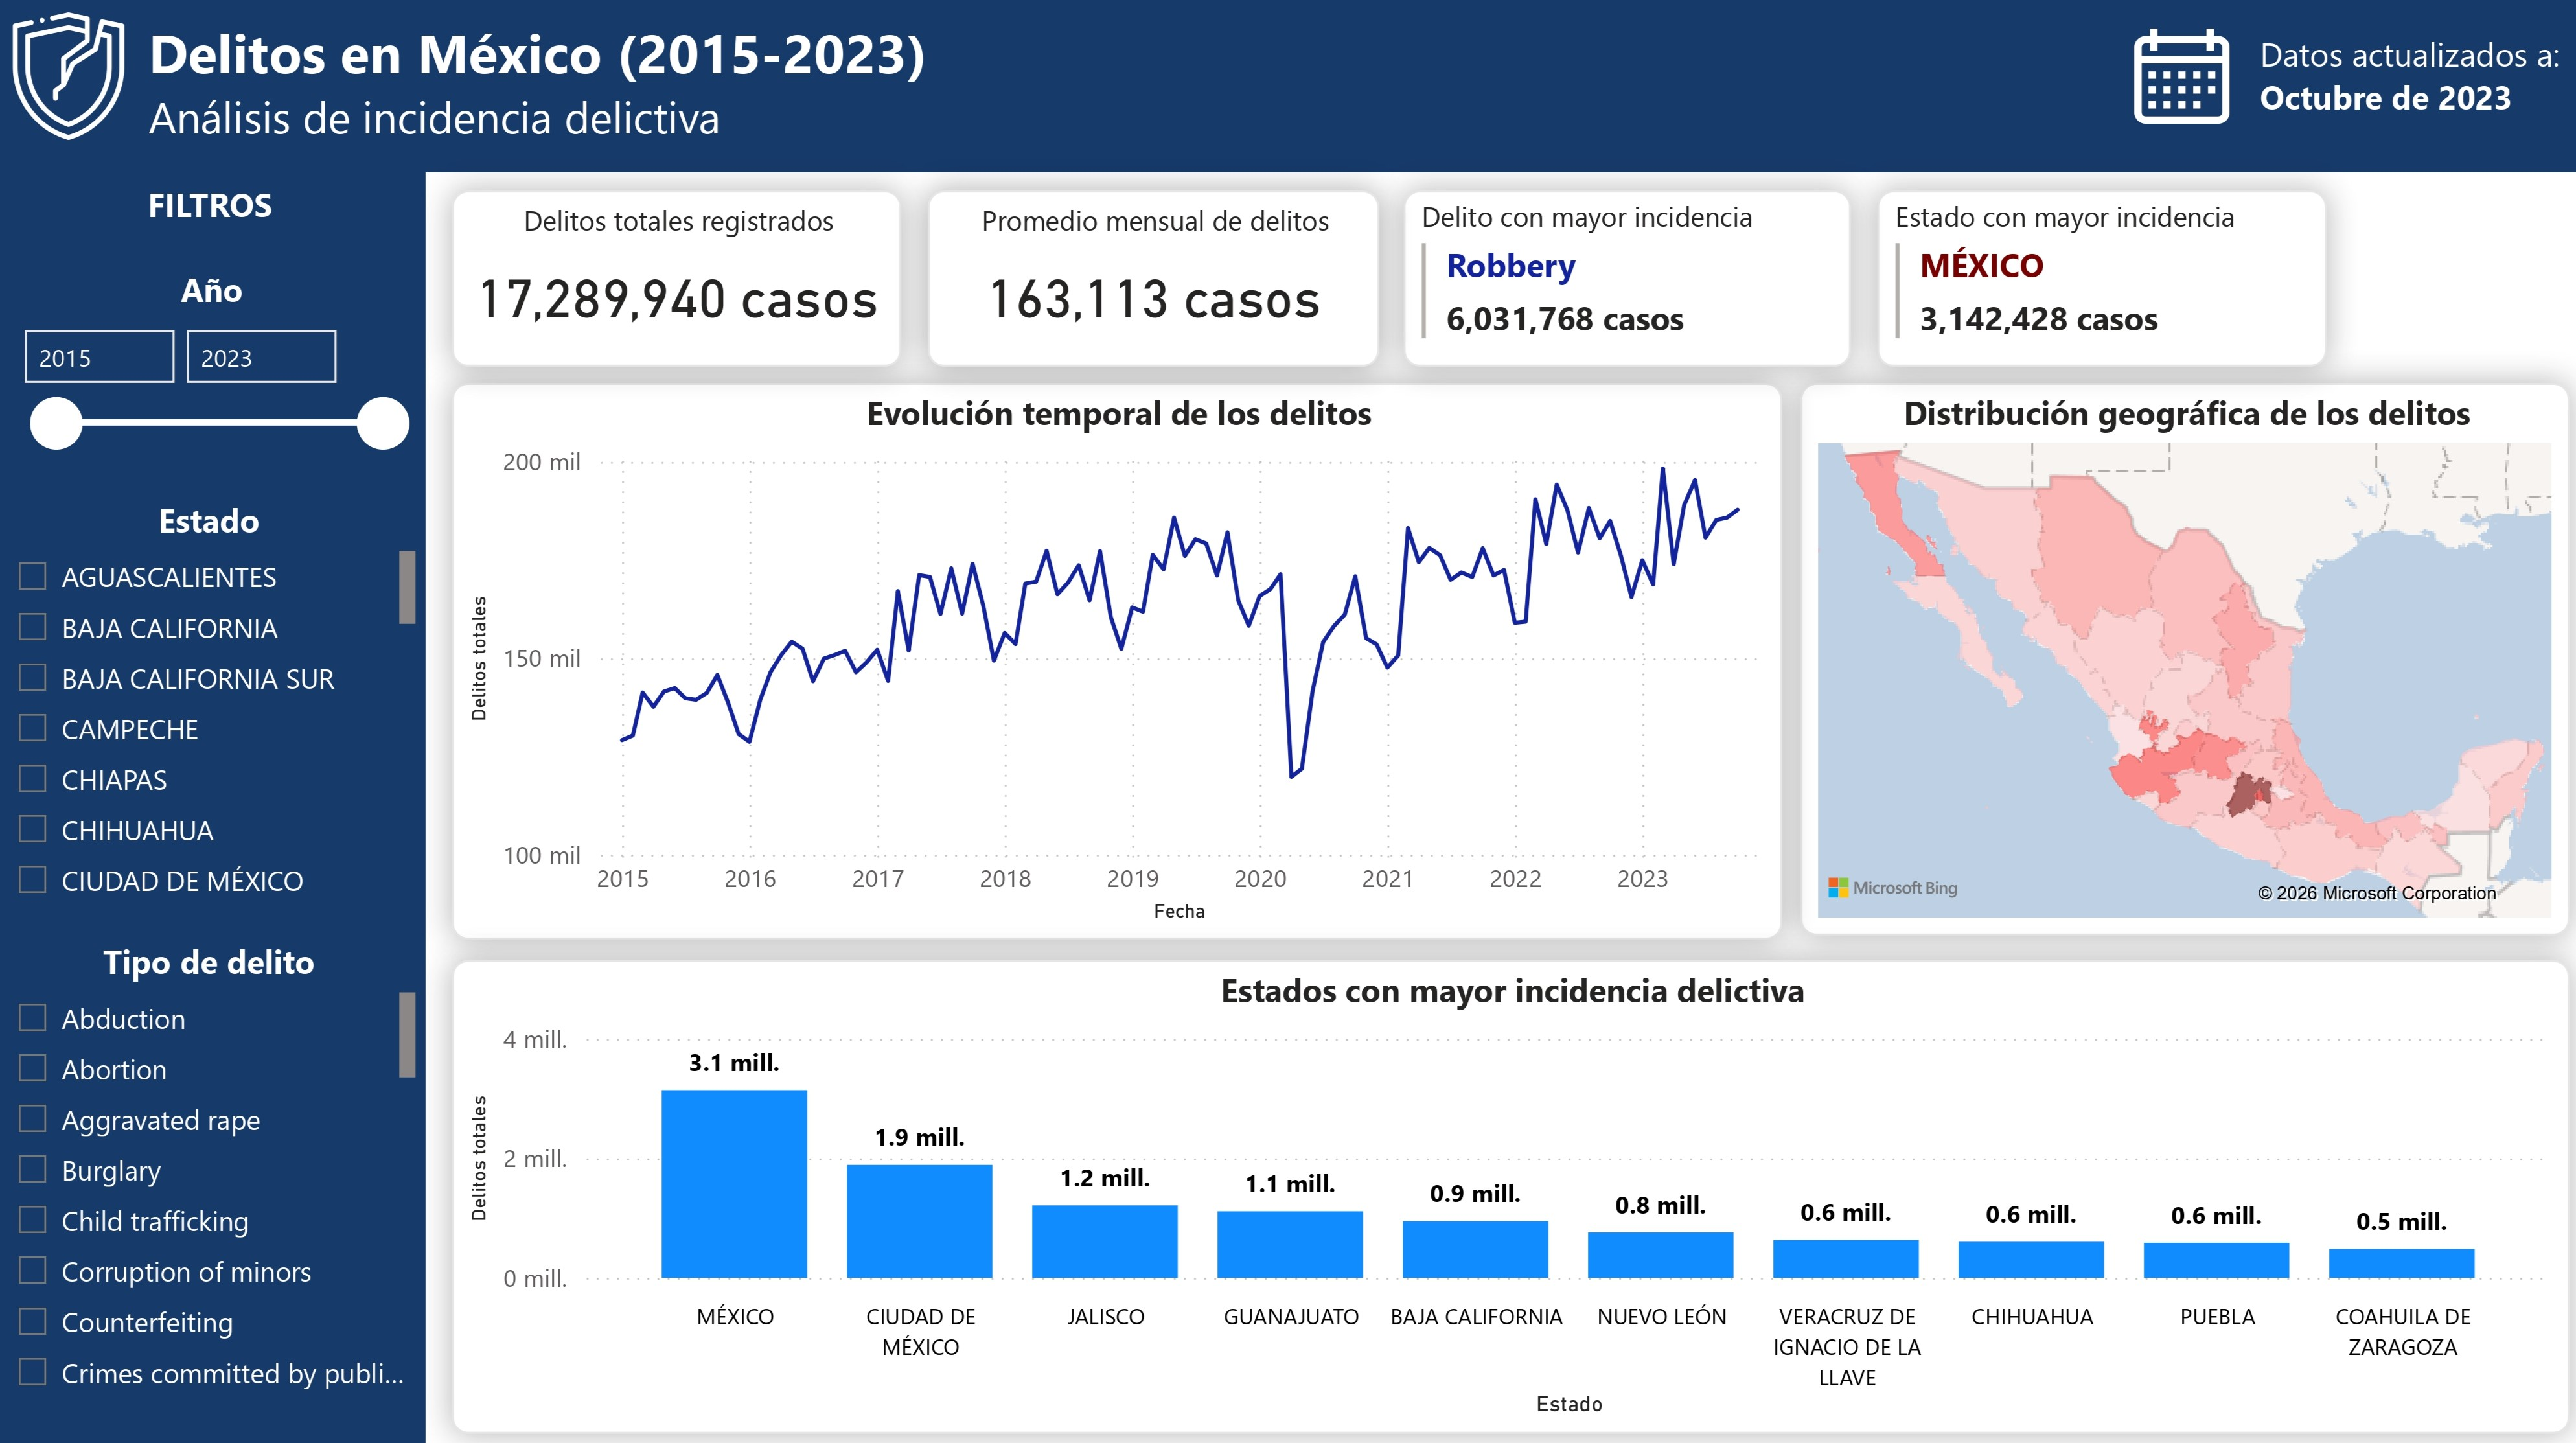

What the dashboard file says about the page in this screenshot:
{"tool":"powerbi","page":{"name":"Overview","canvas":[1280,720],"ordinal":0},"visuals":[{"type":"shape","box":[0,43.3,214.2,674.2],"z":0},{"type":"shape","box":[0,0,1280,86.5],"z":1000},{"type":"filledMap","title":"Distribución geográfica de los delitos","fields":{"Category":["dim_estado.estado"]},"box":[893.3,191.3,379.8,273.1],"z":4000},{"type":"lineChart","title":"Evolución temporal de los delitos","fields":{"Category":["dim_fecha.fecha"],"Y":["Medidas.Total delitos"]},"box":[226.7,191.1,657.8,274.4],"z":5000},{"type":"columnChart","title":"Estados con mayor incidencia delictiva","fields":{"Category":["dim_estado.estado"],"Y":["Medidas.Total delitos"]},"box":[226.7,475.6,1046.7,234.4],"z":6000},{"type":"slicer","title":"Año","fields":{"Values":["dim_fecha.anio"]},"box":[3.3,134.4,211.1,113.3],"z":7000},{"type":"slicer","title":"Estado","fields":{"Values":["dim_estado.estado"]},"box":[0,247.8,214.4,203.3],"z":8000},{"type":"slicer","title":"Tipo de delito","fields":{"Values":["dim_delito.tipo_delito"]},"box":[0,465.6,214.4,234.4],"z":9000},{"type":"multiRowCard","title":"Estado con mayor incidencia","fields":{"Values":["Medidas.Máximo delitos por estado","Medidas.Estado con mayor incidencia"]},"box":[930.8,95.8,221.7,86.7],"z":10000},{"type":"multiRowCard","title":"Delito con mayor incidencia","fields":{"Values":["Medidas.Delitos del tipo más frecuente","Medidas.Delito más frecuente"]},"box":[696.7,95.8,221.7,86.7],"z":11000},{"type":"textbox","box":[72,4,404.7,78],"z":12000},{"type":"textbox","box":[1114.6,13,165.6,60.5],"z":13000},{"type":"textbox","box":[71.1,86.7,73.3,33.3],"z":14000},{"type":"card","title":"Delitos totales registrados","fields":{"Values":["Medidas.Total delitos"]},"box":[226.7,95.8,222.5,86.7],"z":15000},{"type":"card","title":"Promedio mensual de delitos","fields":{"Values":["Medidas.Promedio mensual delitos"]},"box":[461.7,95.8,223.3,86.7],"z":16000},{"type":"image","box":[3.7,8.3,67.8,63.2],"z":17000},{"type":"image","box":[1057.5,15.8,47.5,47.5],"z":18000}]}

Visuals, with their boxes in screenshot pixels (x1, y1, x2, y2), scaled from the page's 1280x720 canvas onto the 2576x1443 screenshot:
shape: 0,87,431,1438
shape: 0,0,2575,174
"Distribución geográfica de los delitos" filledMap: 1798,384,2562,930
"Evolución temporal de los delitos" lineChart: 456,383,1780,933
"Estados con mayor incidencia delictiva" columnChart: 456,953,2562,1423
"Año" slicer: 6,270,431,496
"Estado" slicer: 0,496,431,904
"Tipo de delito" slicer: 0,933,431,1403
"Estado con mayor incidencia" multiRowCard: 1873,192,2319,365
"Delito con mayor incidencia" multiRowCard: 1402,192,1848,365
textbox: 145,8,960,165
textbox: 2243,26,2575,147
textbox: 143,174,291,240
"Delitos totales registrados" card: 456,192,904,365
"Promedio mensual de delitos" card: 929,192,1379,365
image: 7,17,144,143
image: 2128,32,2224,127
